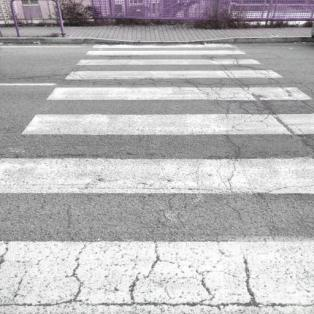Paso de Cebra: (16, 81, 314, 142), (71, 49, 265, 69)
